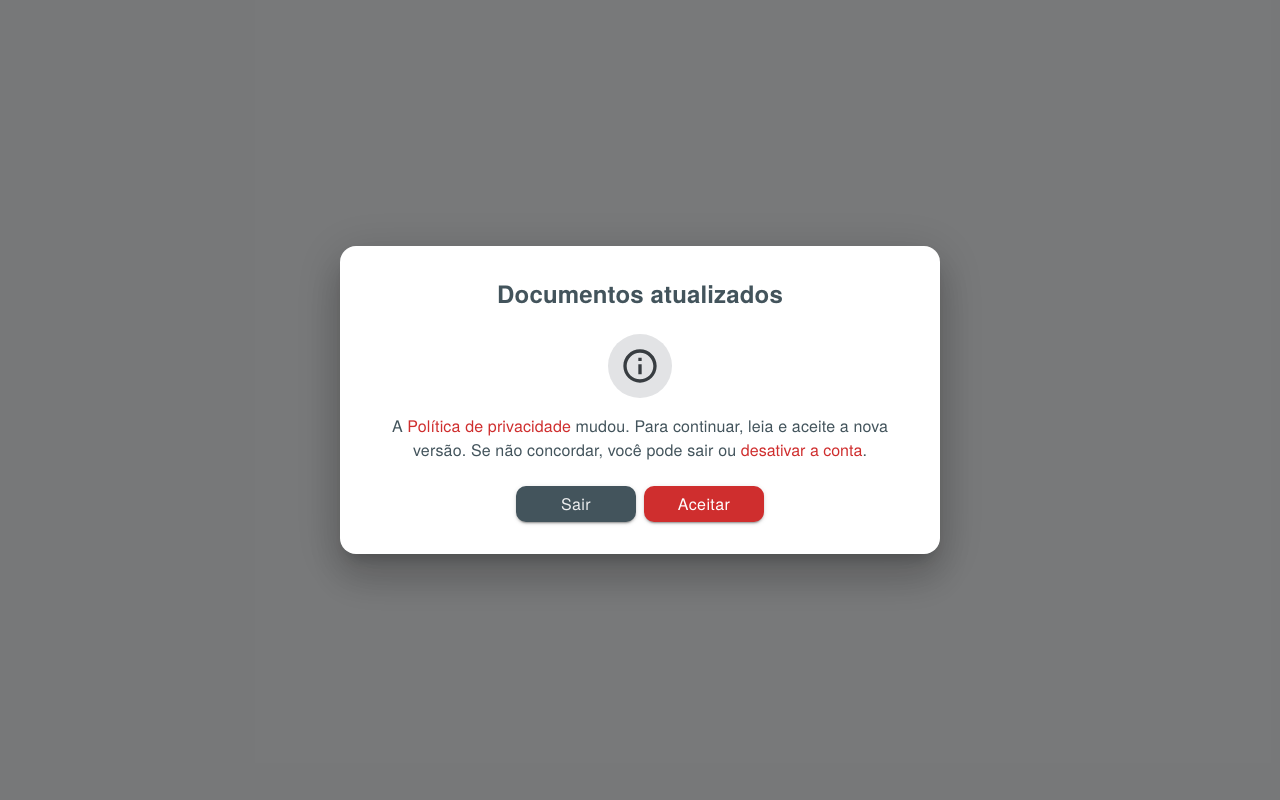
LegalDocumentsDialog › should keep the dialog and read the documents again when the acceptance is refused
Click the button "Aceitar" at (704, 504), box [644,486,764,522]
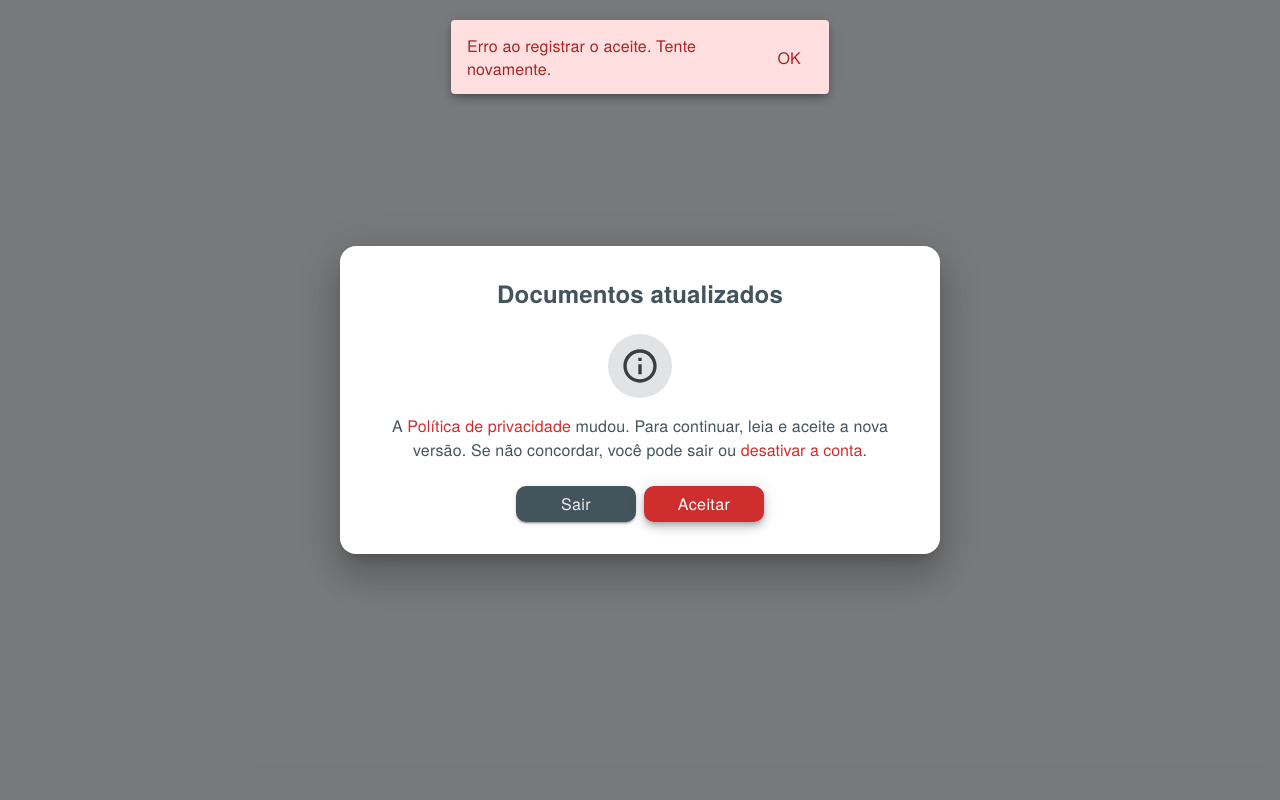
expect the dialog "Documentos atualizados" is shown: met, box [340,246,940,554]
expect the text "Erro ao registrar o aceite. Tente novamente." is shown: met, box [467,34,696,80]
expect the number of messages is 1: met, box [451,20,829,94]
